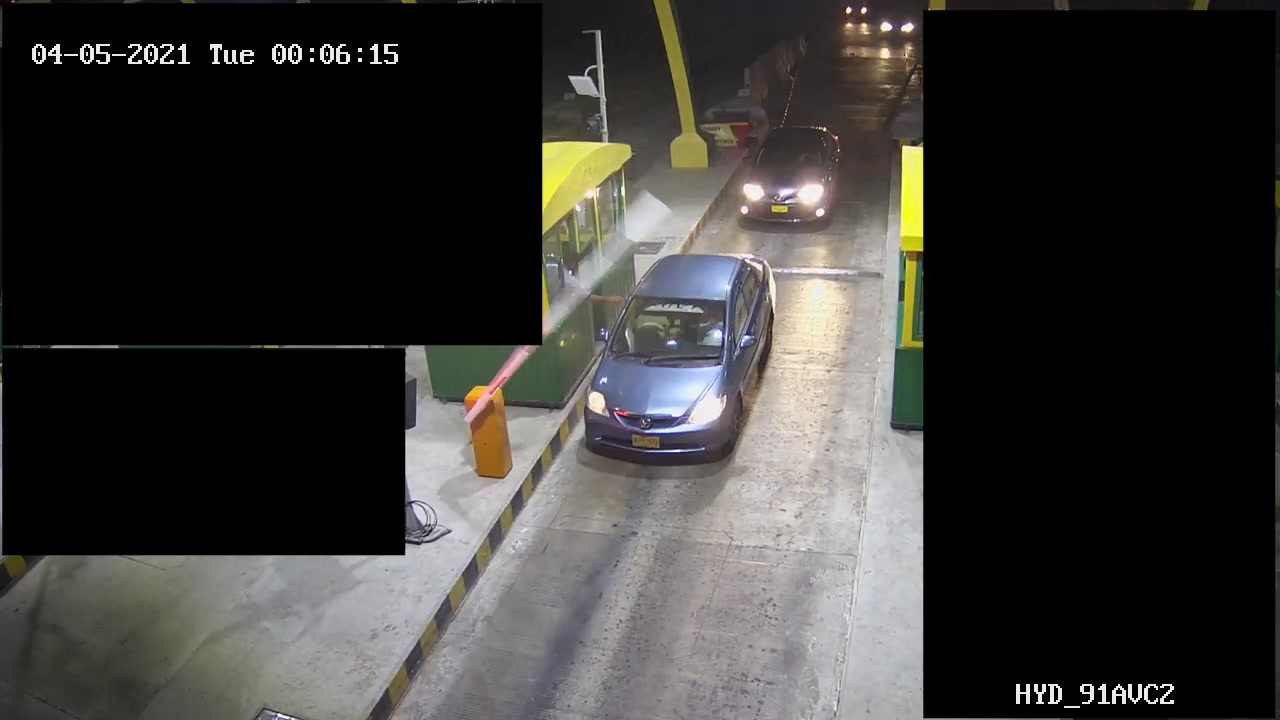F1: (582, 247, 799, 463), (723, 118, 842, 240)
